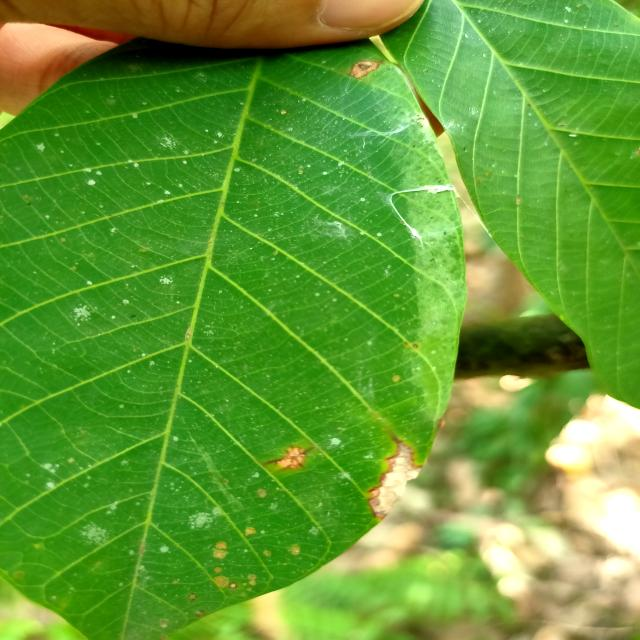Colletotrichum: (413, 344, 419, 348)
Corynespora: (261, 446, 314, 471)
Leaf-Blight: (369, 443, 429, 519), (350, 61, 380, 78)
